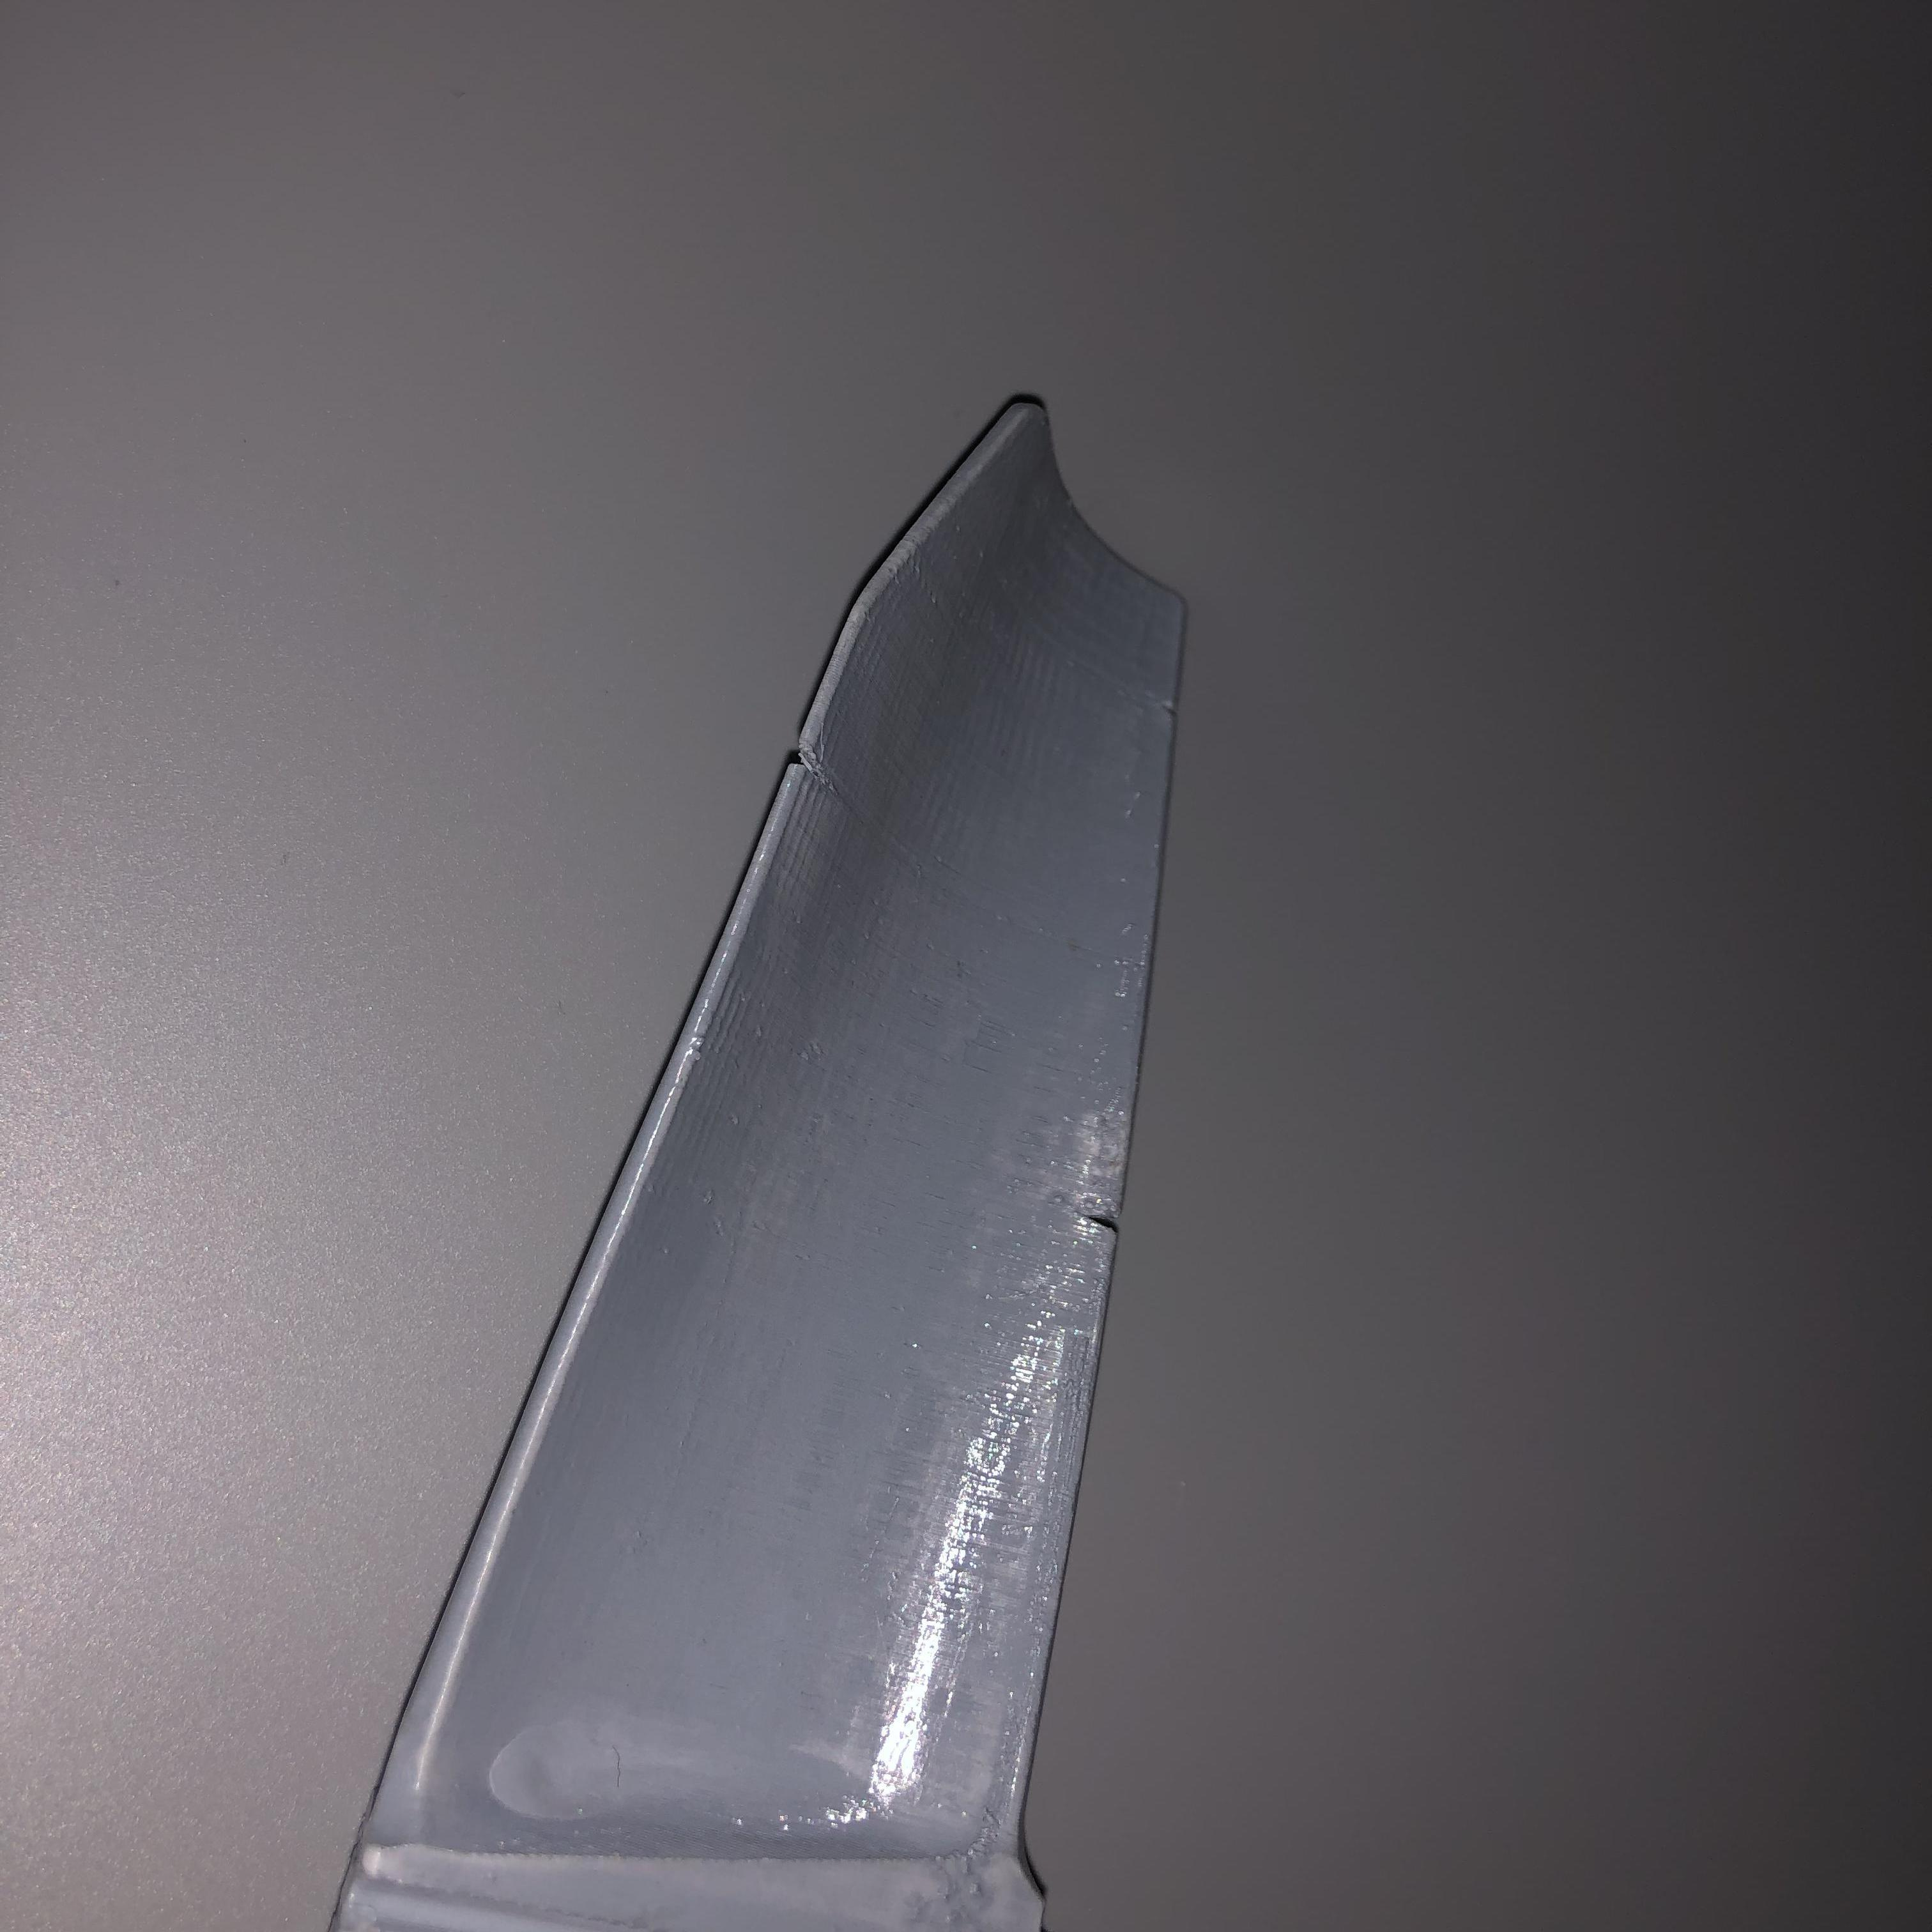groove: (1074, 1191, 1125, 1251), (791, 738, 839, 793)
